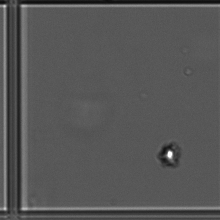Living Cell: (155, 138, 178, 169)
